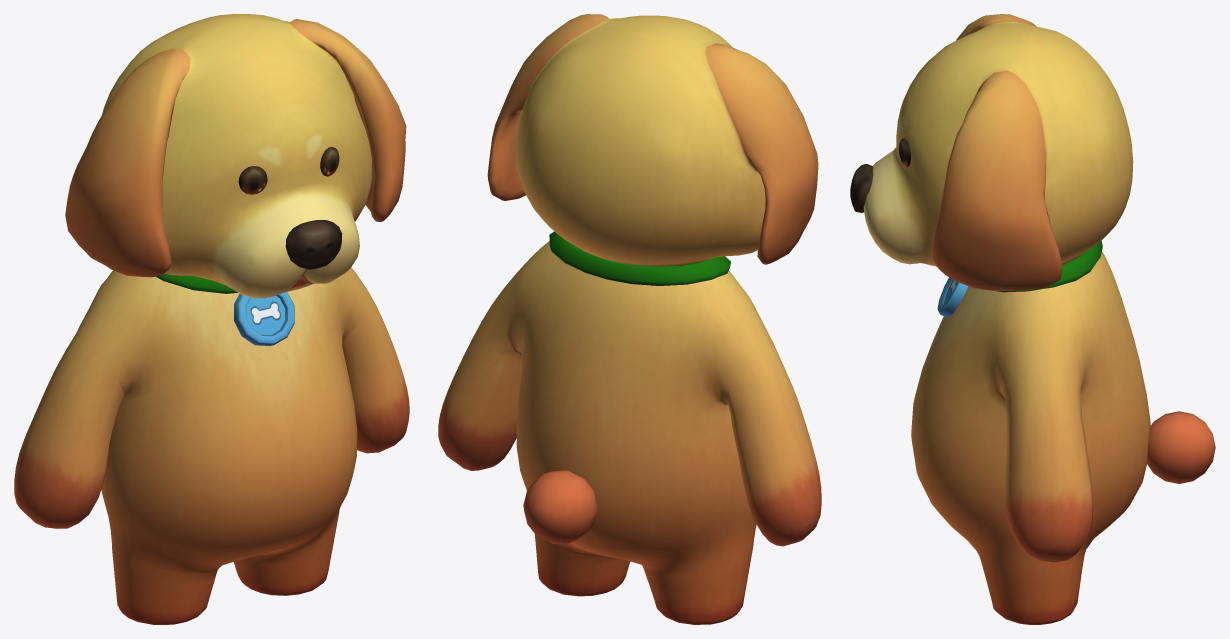
The model's file is GoldenLumber.fbx.
3 renders of one model, left to right at view 1: azimuth 30°, elevation 25°; view 2: azimuth 150°, elevation 25°; view 3: azimuth 270°, elevation 25°, orthographic. The views are drawn at different scales.
Visible parts, largest first — view 1: Golden_Body, Golden_Acc, Golden_Eye_R; view 2: Golden_Body, Golden_Tail, Golden_Acc; view 3: Golden_Body, Golden_Tail, Golden_Acc.
Part boxes in pixels (left/top/right/bottom): Golden_Body: left=14, top=14, right=409, bottom=624; Golden_Acc: left=156, top=273, right=294, bottom=345; Golden_Eye_R: left=238, top=166, right=267, bottom=194; Golden_Body: left=438, top=14, right=821, bottom=624; Golden_Tail: left=523, top=470, right=597, bottom=543; Golden_Acc: left=549, top=231, right=730, bottom=285; Golden_Body: left=850, top=14, right=1150, bottom=624; Golden_Tail: left=1147, top=411, right=1215, bottom=483; Golden_Acc: left=937, top=241, right=1102, bottom=317.
Size of the model in its own units: 228 by 330 by 200.
